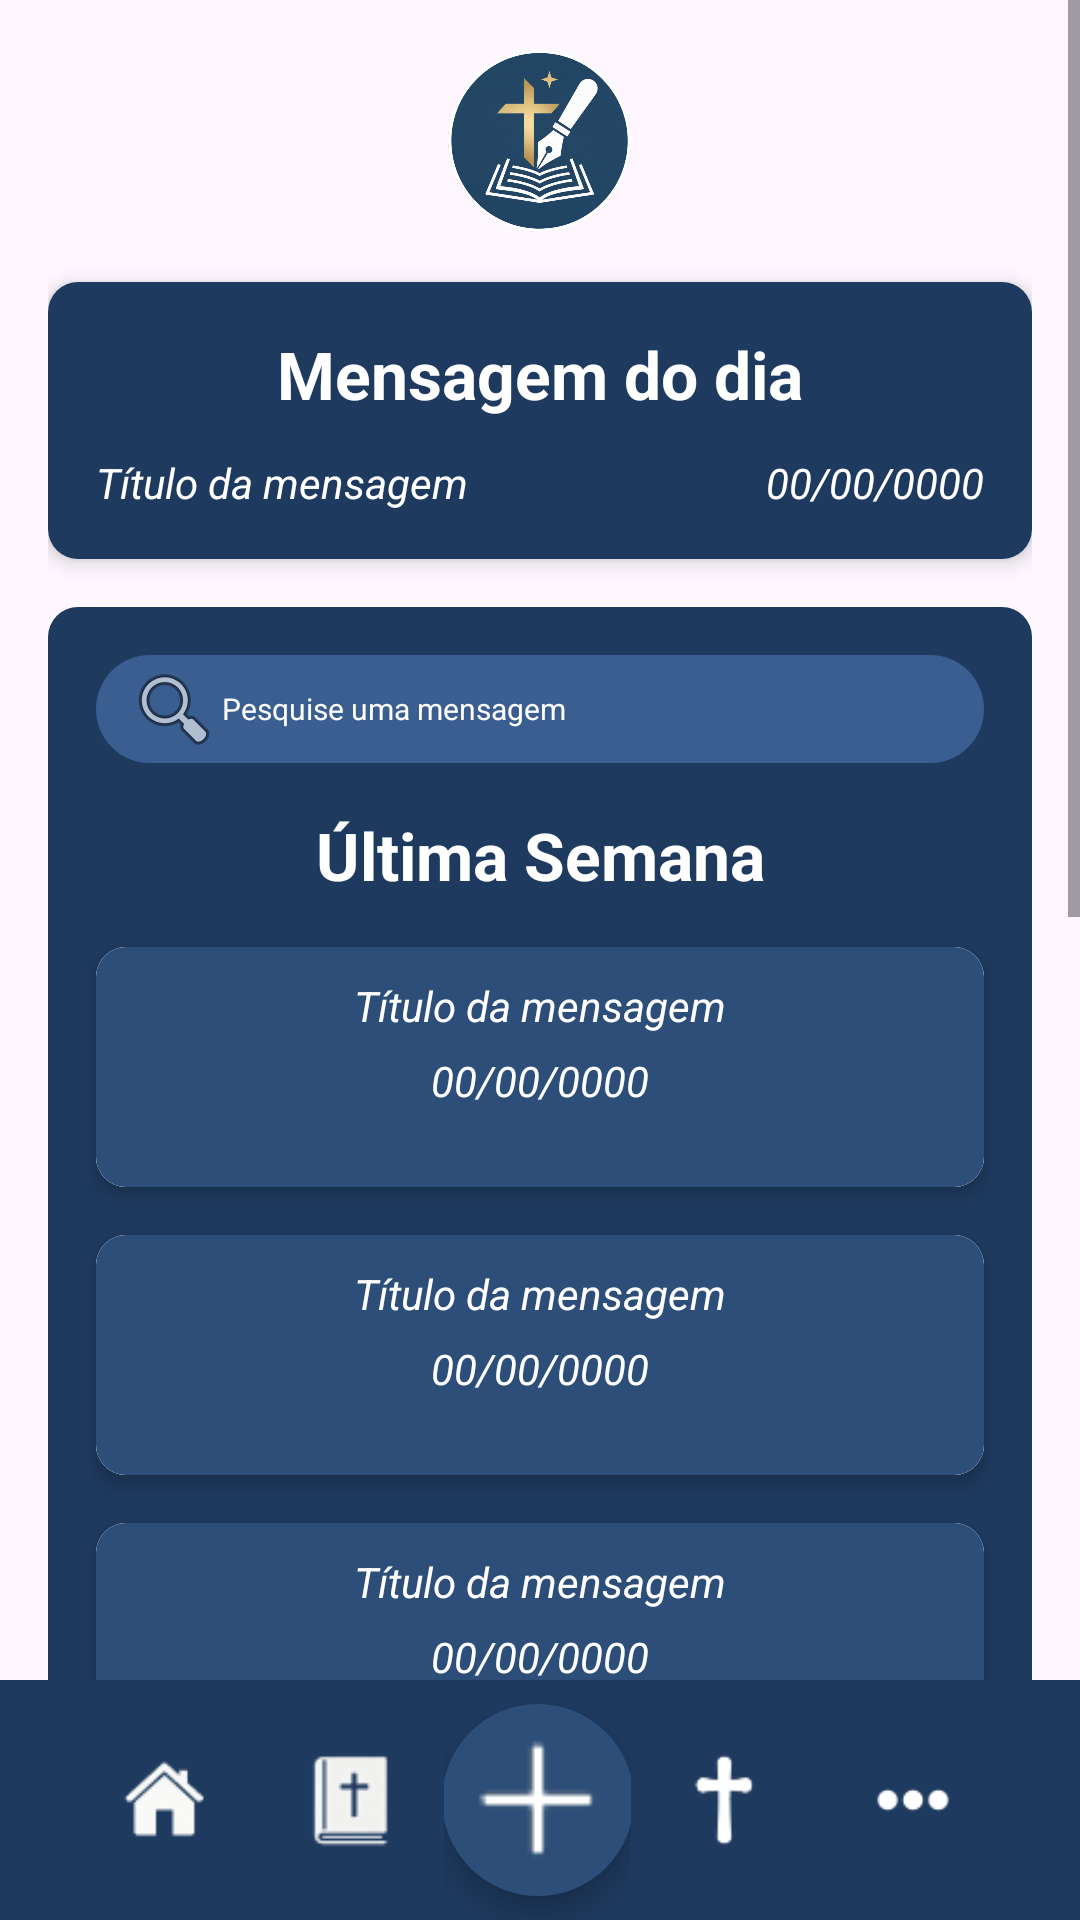

Icon bounding boxes for this 1080 x 1920 phone screenshot, format BBox(x1, y1, x2, y2):
Bíblia: BBox(313, 1756, 388, 1846)
Cruz: BBox(695, 1755, 753, 1845)
Início: BBox(124, 1761, 204, 1837)
Mais: BBox(877, 1789, 949, 1811)
